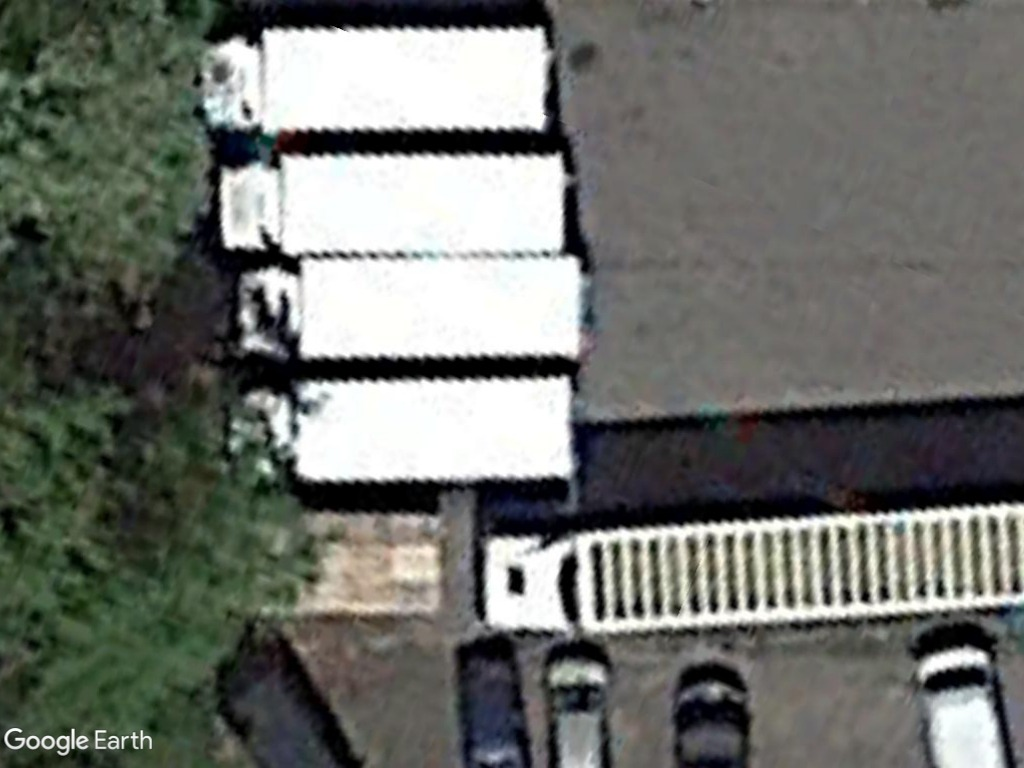truck: (227, 249, 587, 373), (195, 21, 556, 142), (222, 368, 584, 484), (212, 147, 574, 262)
